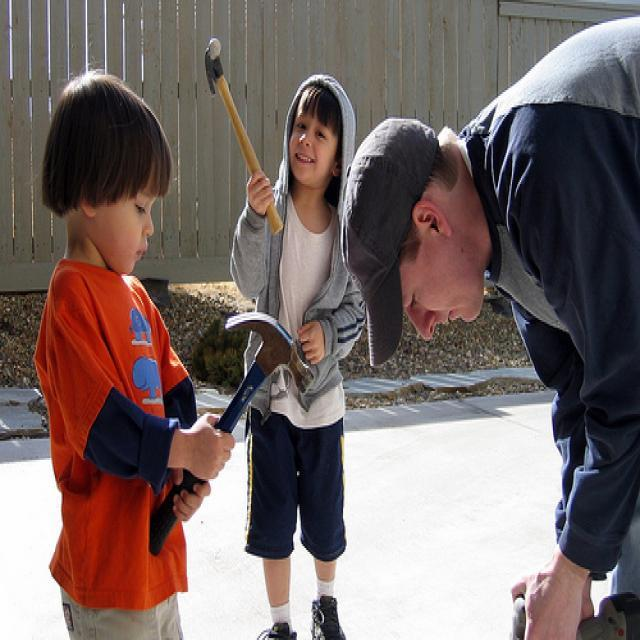hammer: (139, 284, 319, 592), (185, 22, 286, 238)
